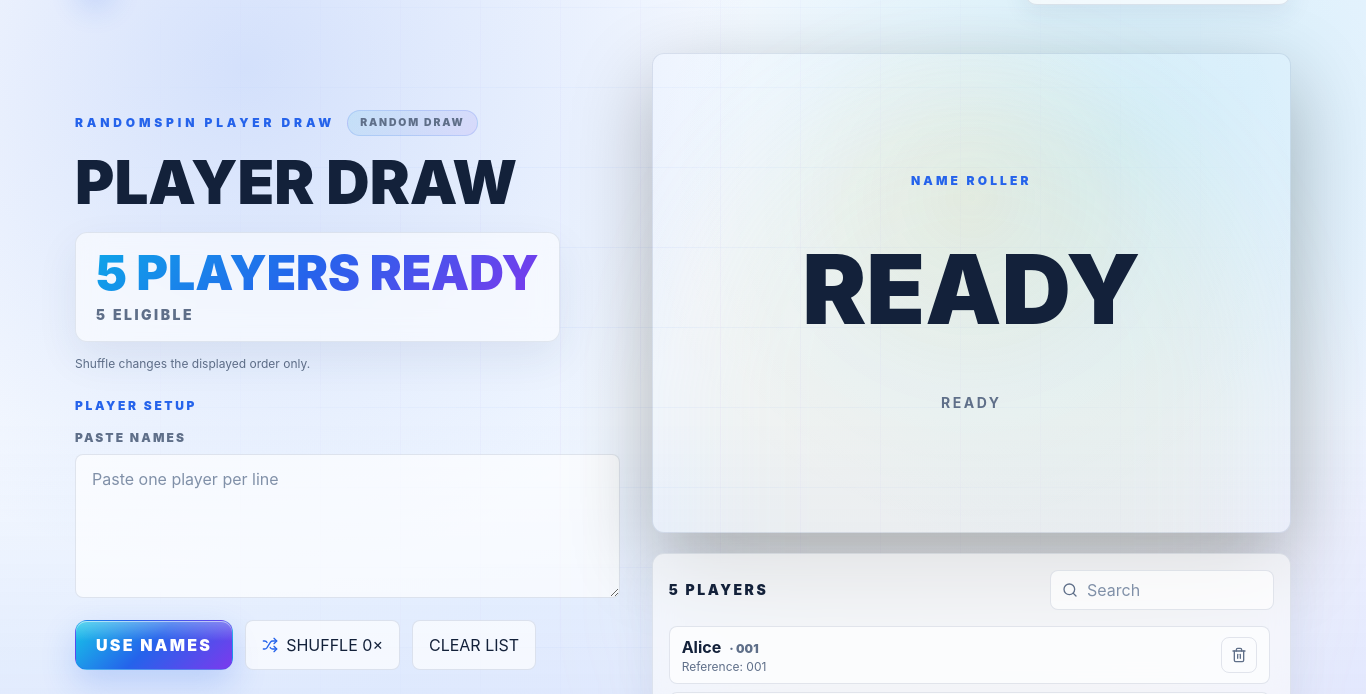
Test case: RandomSpin Player Draw public experience › resets the player shuffle count when participant membership changes
Click the button with aria-label "Shuffle participants, count 0" at (323, 645), box [245, 620, 400, 670]
(page scrolled)
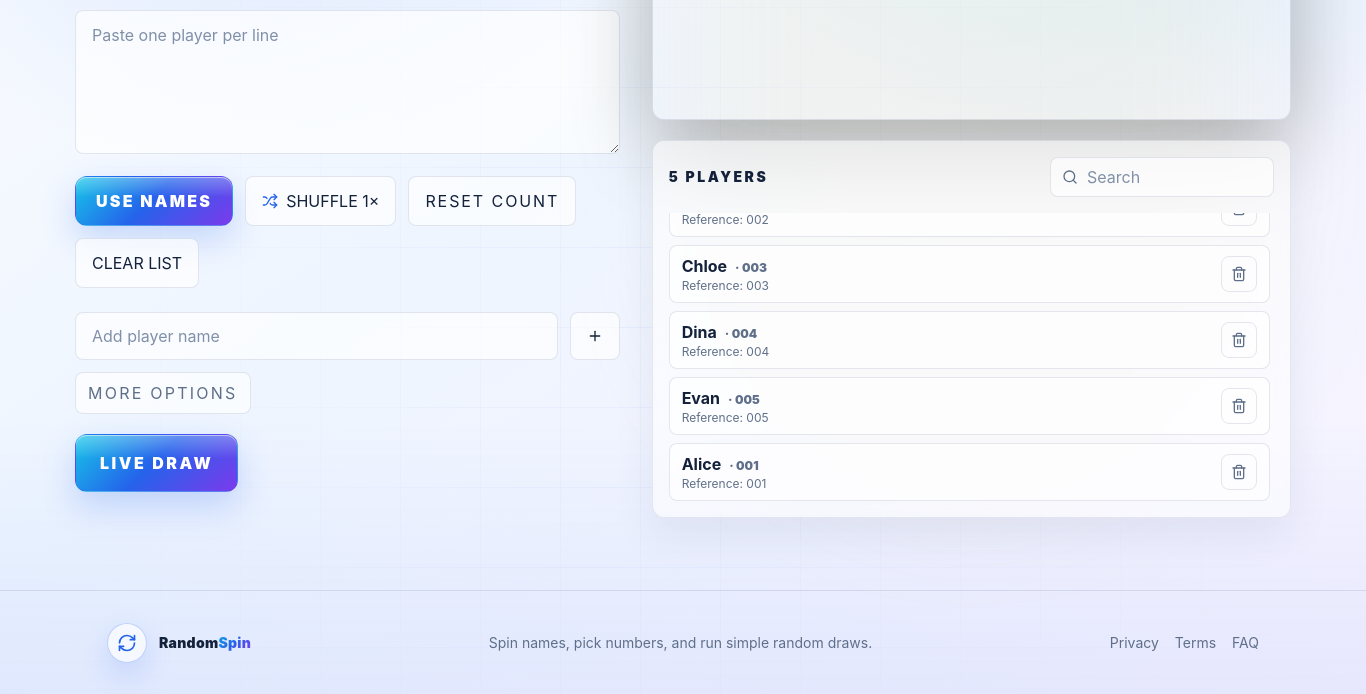
Click the button named "Remove Alice" at (1239, 472), box [1221, 454, 1257, 490]
(page scrolled)
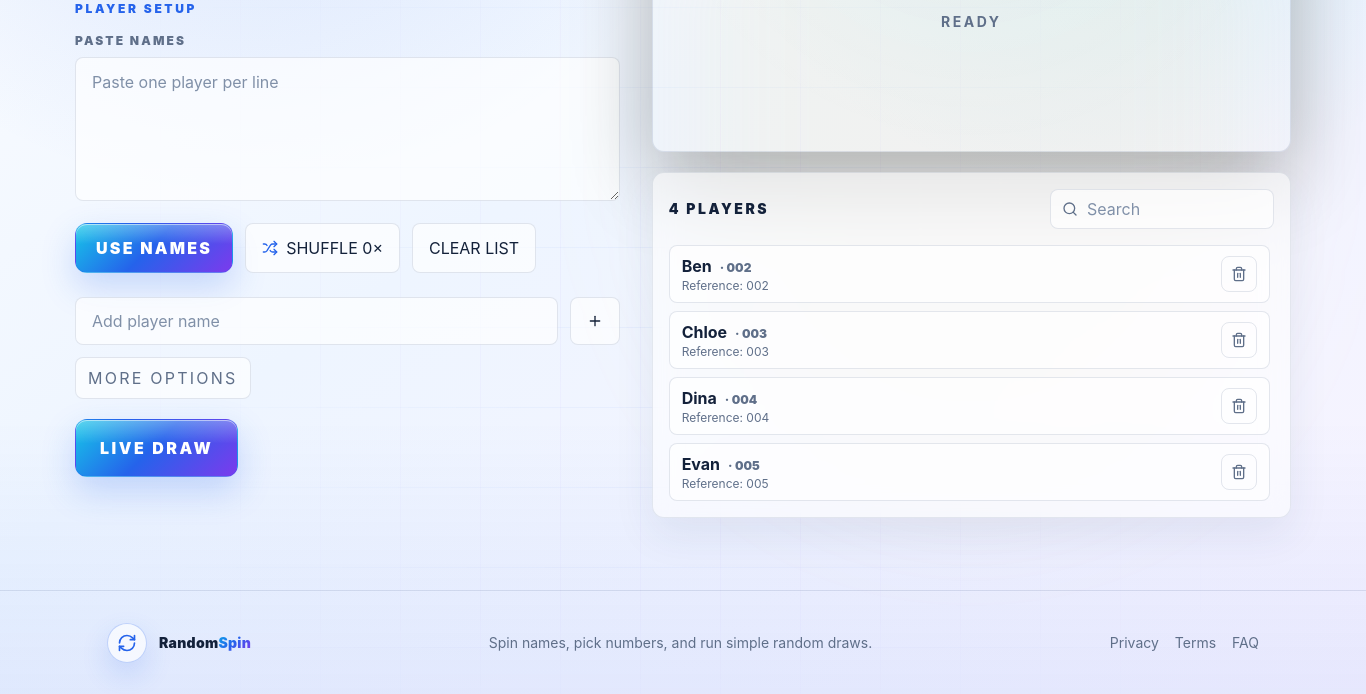
Expected: the button with aria-label "Shuffle participants, count 0" is shown, [245, 223, 400, 273]
